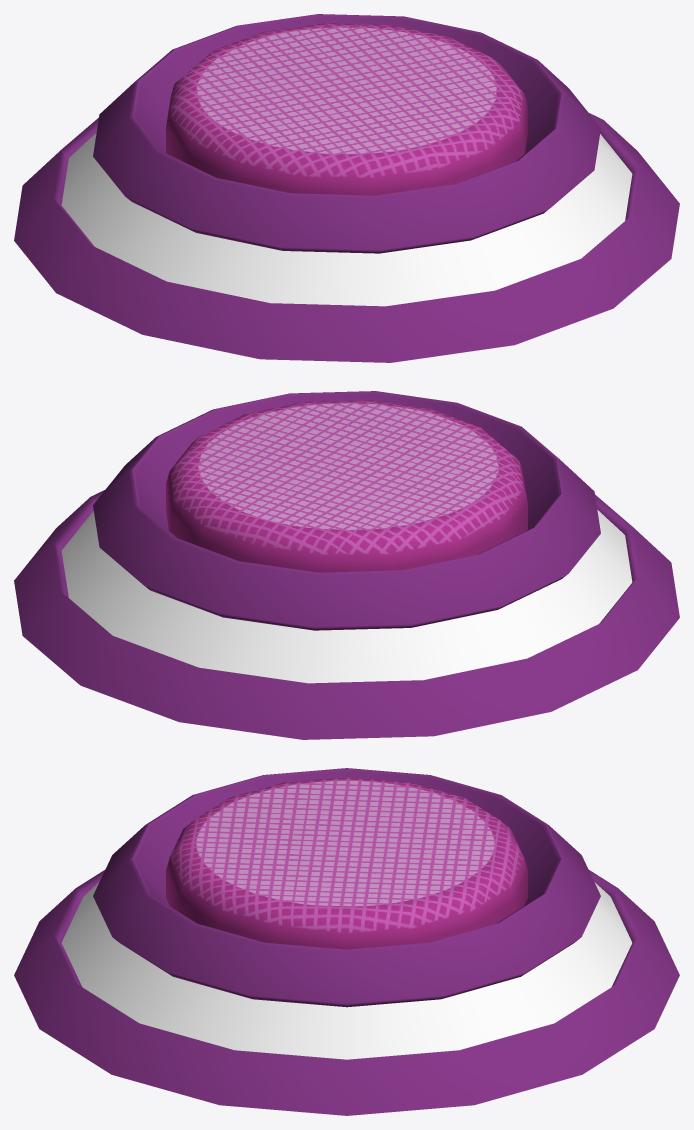
File: PLF0110061.fbx
The picture shows the model from 3 angles, top to bottom: view 1: azimuth 30°, elevation 25°; view 2: azimuth 150°, elevation 25°; view 3: azimuth 270°, elevation 25°; orthographic projection.
Visible parts, largest first — view 1: smPLF0110061; view 2: smPLF0110061; view 3: smPLF0110061.
Part boxes in pixels (bbox=[...]): smPLF0110061: bbox=[14, 14, 679, 362]; smPLF0110061: bbox=[14, 391, 679, 739]; smPLF0110061: bbox=[14, 768, 679, 1115].
Size of the model in its own units: 279 by 60.7 by 279.
1 material, 1 textured.
